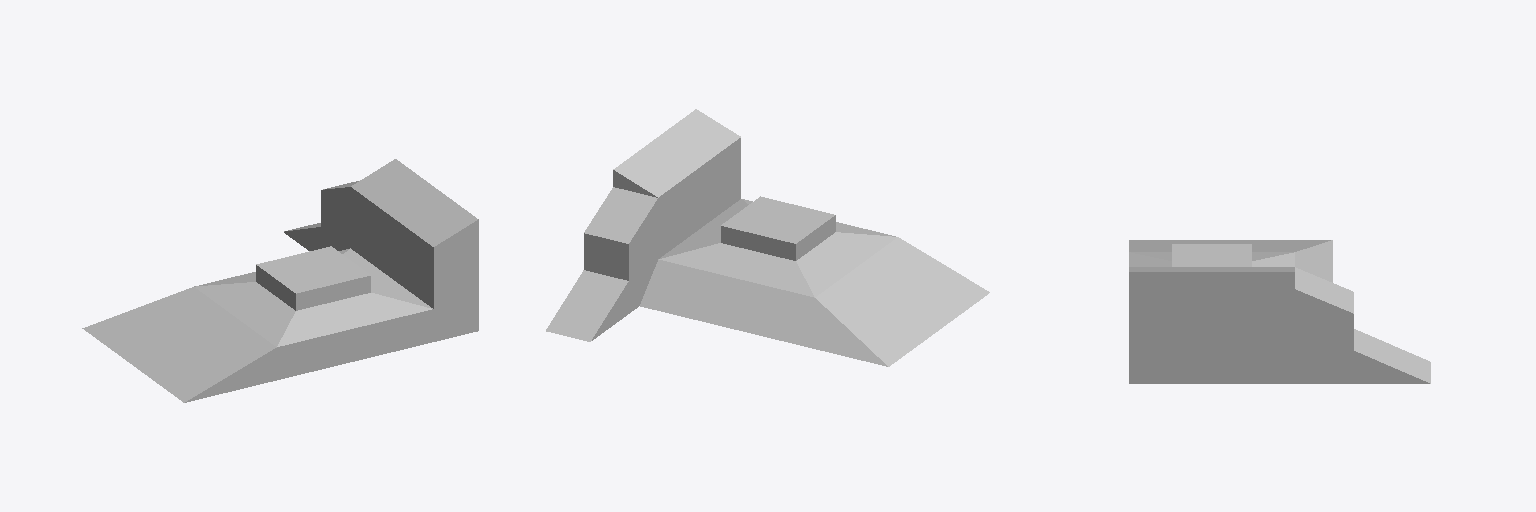
File: Platform1.obj
3 views of the same model, side by side, from view 1: azimuth 30°, elevation 25°; view 2: azimuth 150°, elevation 25°; view 3: azimuth 270°, elevation 25° (orthographic).
Visible parts, largest first — view 1: Platform1; view 2: Platform1; view 3: Platform1.
Part boxes in pixels (x1,y1,x2,y2): Platform1: (82, 159, 478, 402); Platform1: (546, 109, 989, 366); Platform1: (1129, 240, 1430, 383).
Bounding box in the file's own units: 8.29 × 3.01 × 7.36.